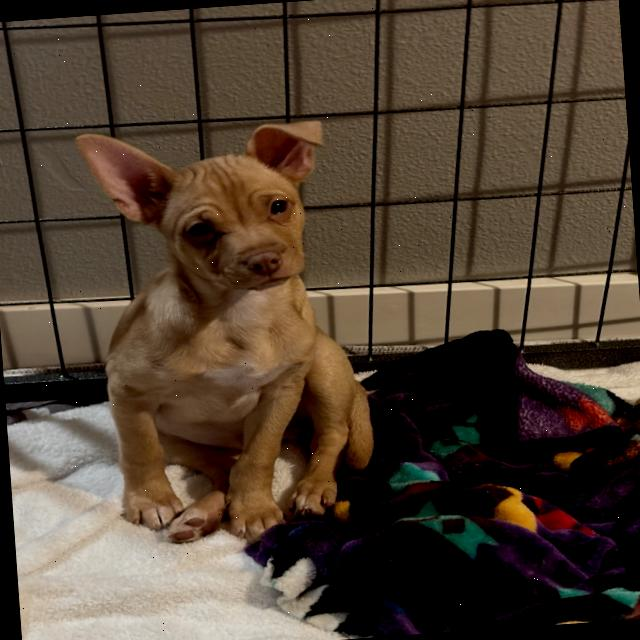chihuahua_dog: (60, 103, 368, 314)
